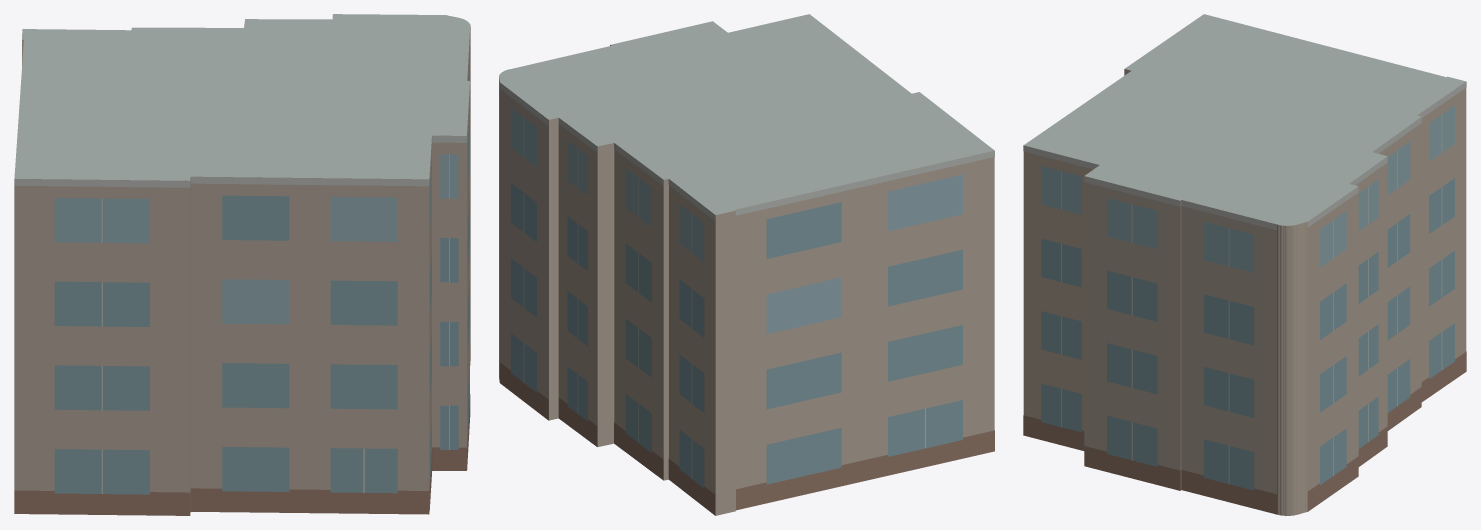
The model's file is survey-upis-32672544.glb.
3 views of the same model, side by side, from view 1: azimuth 30°, elevation 25°; view 2: azimuth 150°, elevation 25°; view 3: azimuth 270°, elevation 25° (orthographic). The views are drawn at different scales.
Visible parts, largest first — view 1: survey-upis-32672544.tmp; view 2: survey-upis-32672544.tmp; view 3: survey-upis-32672544.tmp.
Part boxes in pixels (bbox=[...]): survey-upis-32672544.tmp: bbox=[14, 14, 470, 515]; survey-upis-32672544.tmp: bbox=[499, 14, 994, 515]; survey-upis-32672544.tmp: bbox=[1023, 14, 1466, 515].
Bounding box in the file's own units: 18.32 × 11.7 × 16.2.
